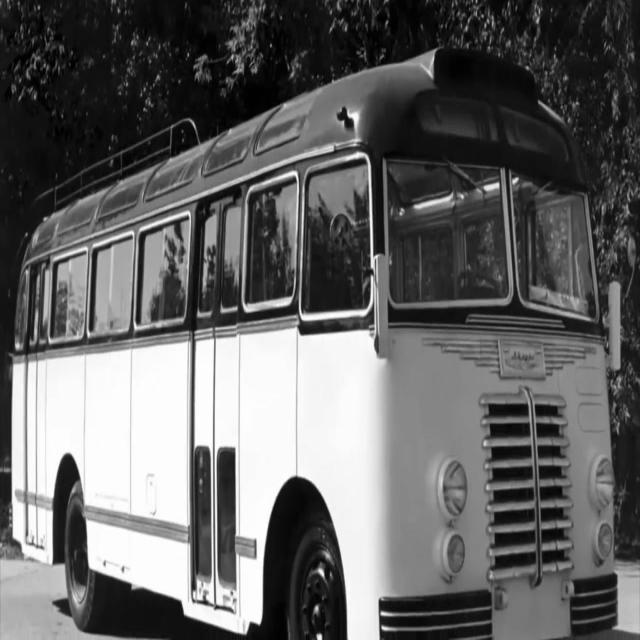Bus: (8, 37, 630, 640)
